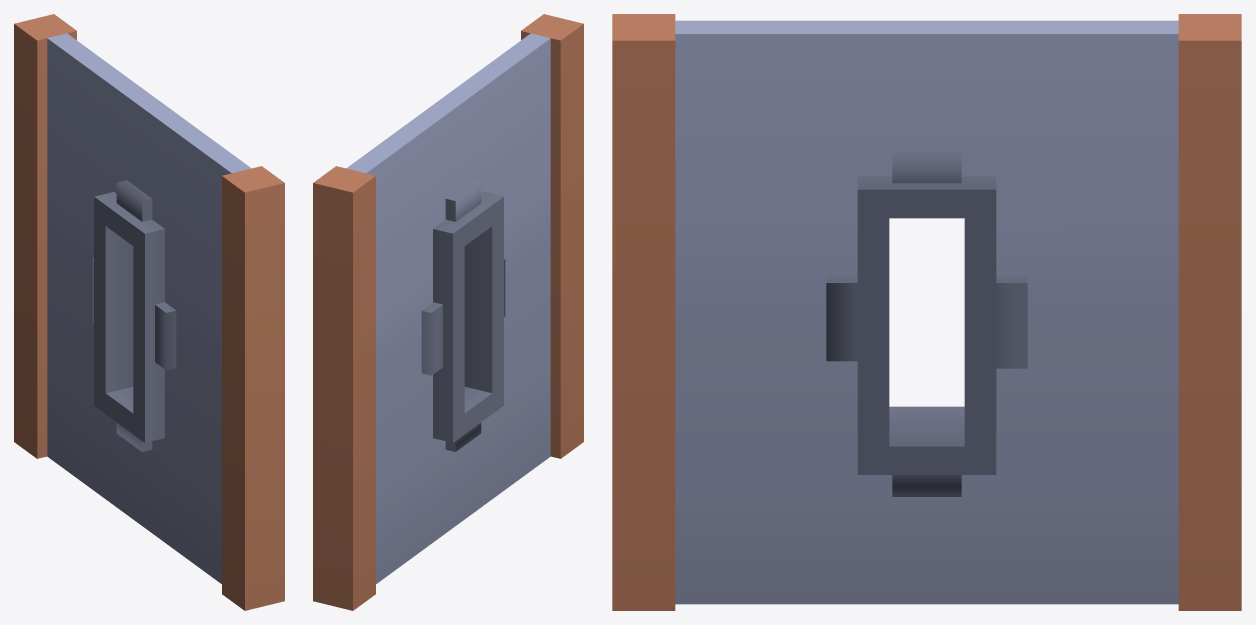
File: ot-wall-window-stone.glb
The picture shows the model from 3 angles, left to right: view 1: azimuth 30°, elevation 25°; view 2: azimuth 150°, elevation 25°; view 3: azimuth 270°, elevation 25°; orthographic projection. The views are drawn at different scales.
Visible parts, largest first — view 1: wall-window-stone; view 2: wall-window-stone; view 3: wall-window-stone.
Boxes of the visible parts, x1,y1,x2,y2 form: wall-window-stone: (14, 14, 284, 610); wall-window-stone: (313, 14, 583, 610); wall-window-stone: (612, 14, 1241, 610).
Bounding box in the file's own units: 0.15 × 1 × 1.
1 material, 1 textured.
